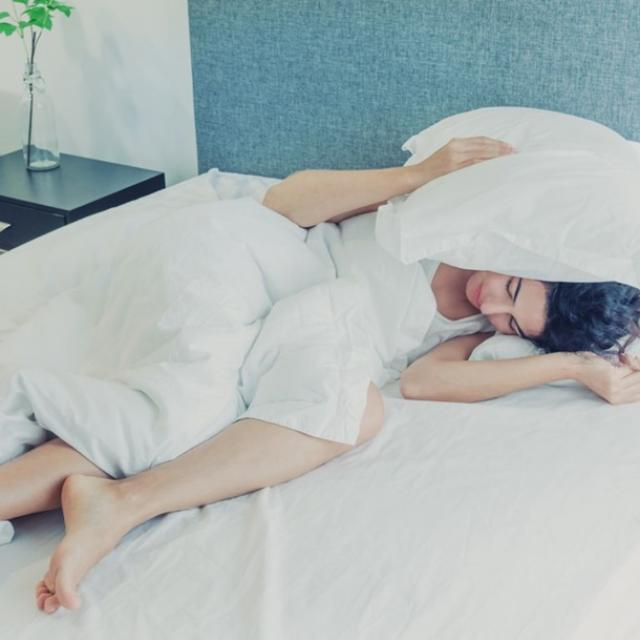people: (0, 97, 640, 619)
